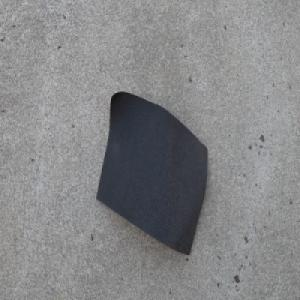PaintChip: (95, 90, 208, 255)
